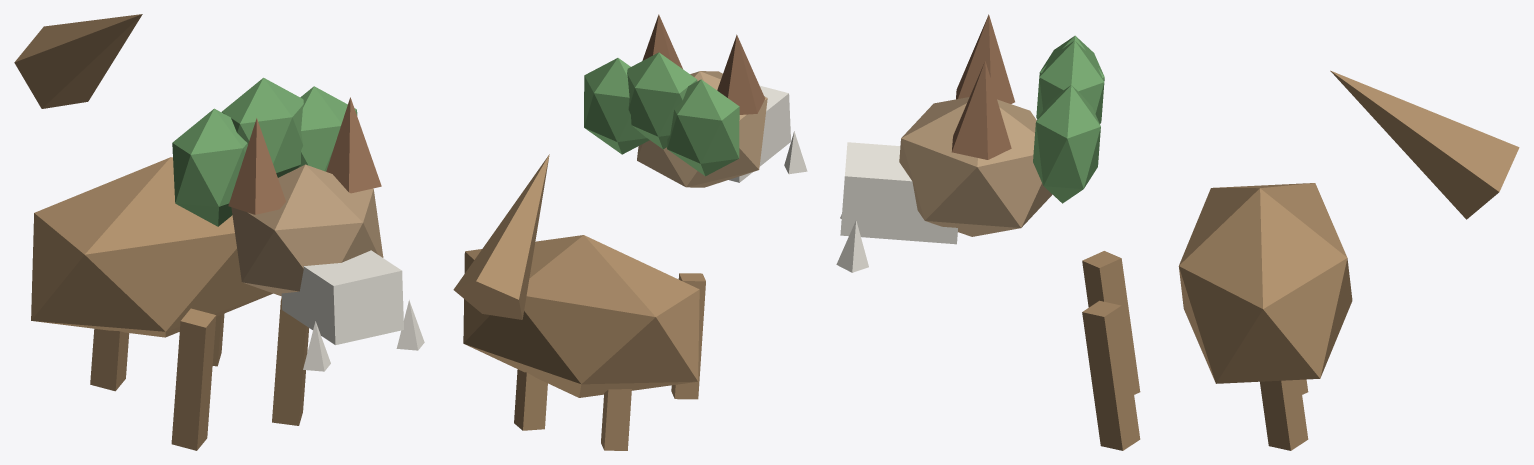
Rendered from npcpose_wolf_attack_09.glb.
3 renders of one model, left to right at view 1: azimuth 30°, elevation 25°; view 2: azimuth 150°, elevation 25°; view 3: azimuth 270°, elevation 25°, orthographic. The views are drawn at different scales.
Visible parts, largest first — view 1: npcpose; view 2: npcpose; view 3: npcpose.
Part boxes in pixels (box(x1,y1,x2,y2)): npcpose: box(14, 14, 424, 450); npcpose: box(453, 14, 807, 450); npcpose: box(836, 14, 1519, 450).
Bounding box in the file's own units: 0.8873 × 1.16 × 1.87.
